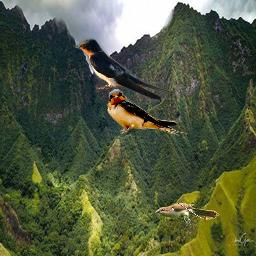Cuckoo: (155, 203, 220, 225)
Swallow: (73, 36, 175, 101), (106, 89, 187, 139)
